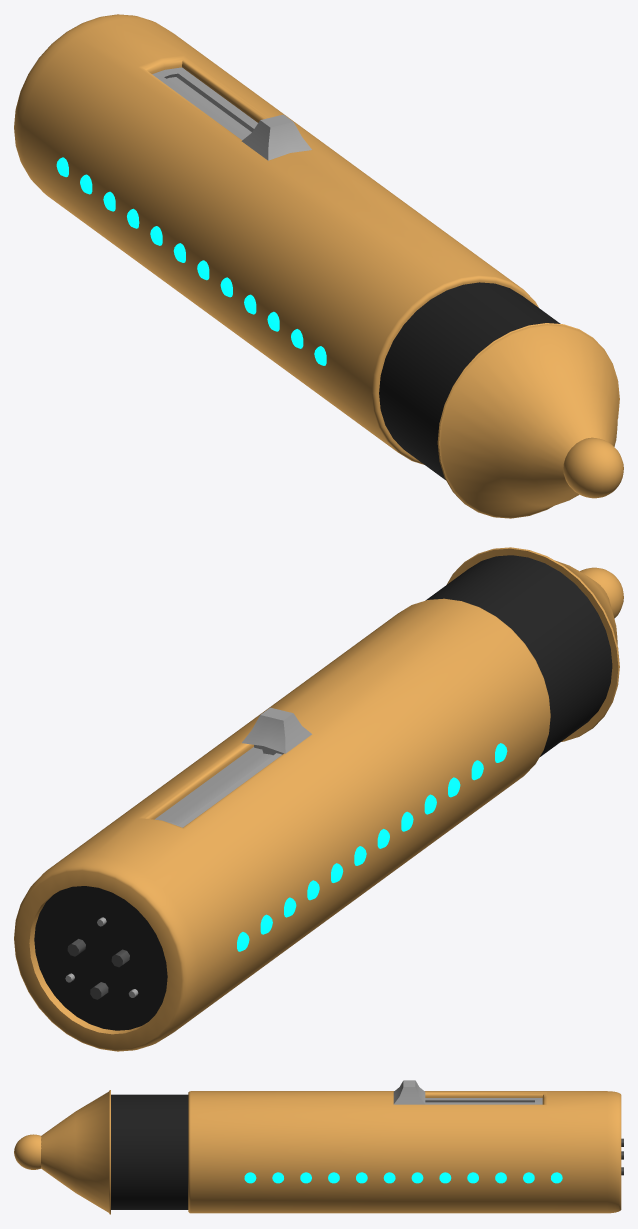
File: Moxie_Battery.fbx
3 renders of one model, top to bottom at view 1: azimuth 30°, elevation 25°; view 2: azimuth 150°, elevation 25°; view 3: azimuth 270°, elevation 25°, orthographic. The views are drawn at different scales.
Parts seen in each view (by area): view 1: Moxie_Battery, Stopper, Lights, Switch; view 2: Moxie_Battery, Stopper, Lights, Switch, Contacts; view 3: Moxie_Battery, Stopper, Lights, Switch.
Boxes of the visible parts, box(x1,y1,x2,y2) form: Moxie_Battery: box(14, 14, 538, 464); Stopper: box(379, 282, 623, 518); Lights: box(56, 157, 326, 365); Switch: box(241, 114, 311, 160); Moxie_Battery: box(14, 598, 550, 1051); Stopper: box(425, 547, 623, 757); Lights: box(237, 743, 507, 951); Switch: box(242, 707, 311, 755); Contacts: box(67, 939, 129, 999); Moxie_Battery: box(188, 1091, 621, 1213); Stopper: box(14, 1090, 188, 1214); Lights: box(244, 1172, 562, 1183); Switch: box(393, 1080, 425, 1104).
Size of the model in its own units: 22.47 by 23.8 by 105.
